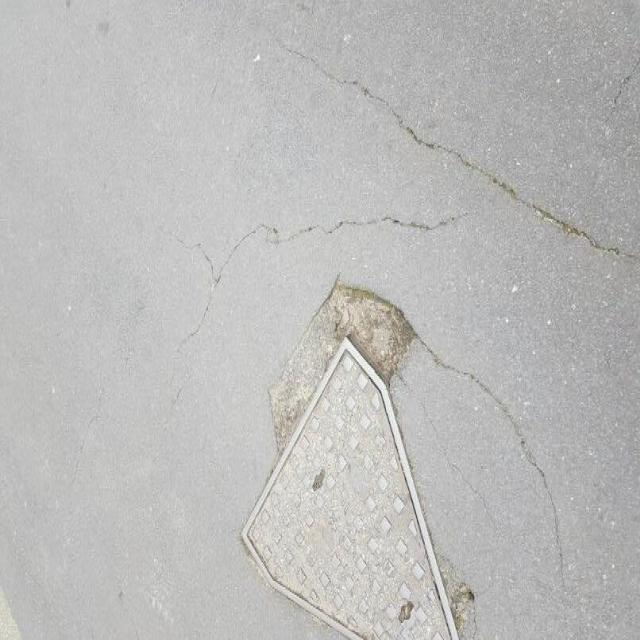pothole: (265, 266, 419, 477)
